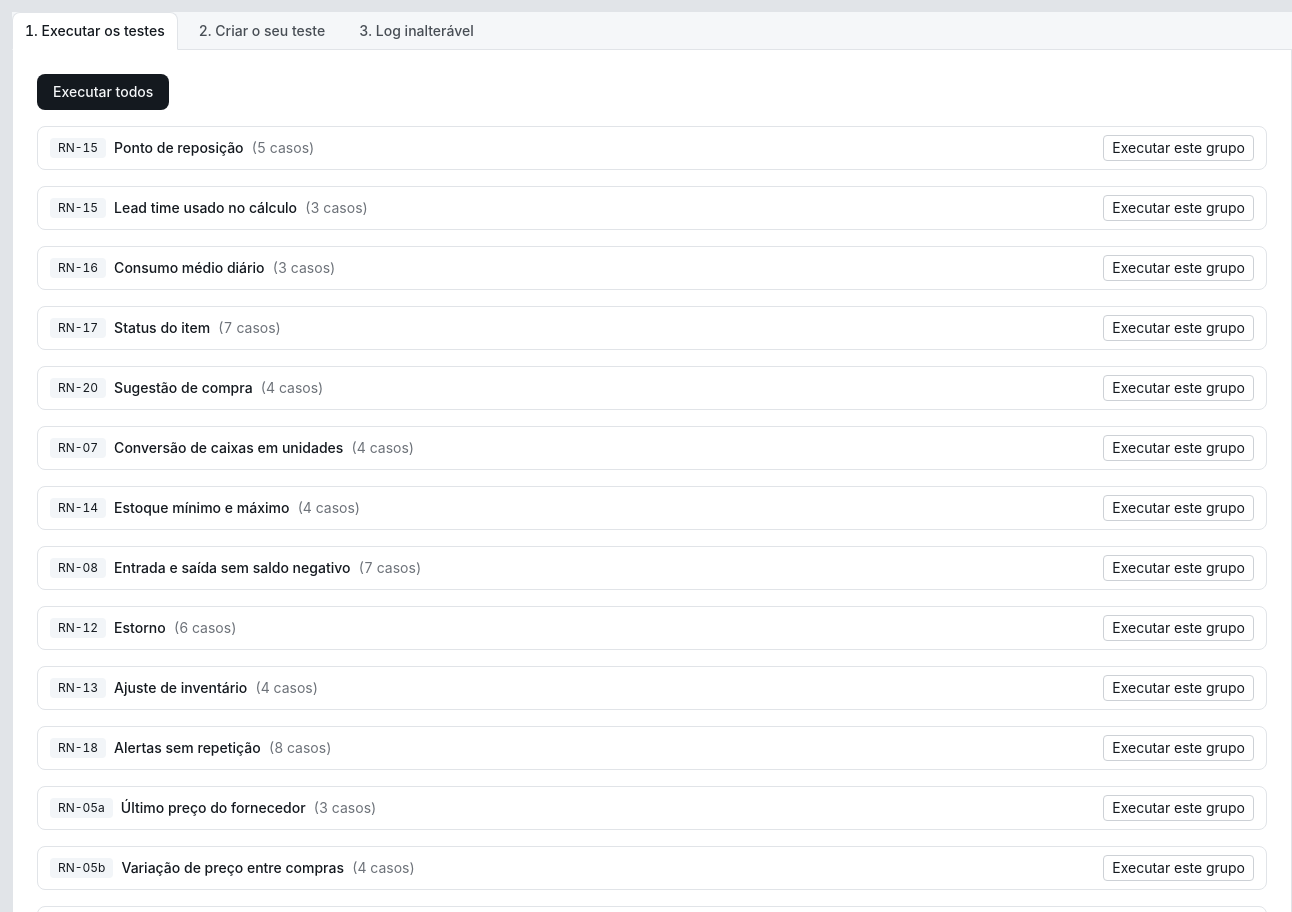
Test: RNF-13 · Laboratório de testes (interface) › aba 2: o avaliador cria um teste de RN-15 que passa
Click the tab "2. Criar o seu teste".
click(262, 31)  # box x1=186 y1=12 x2=338 y2=50
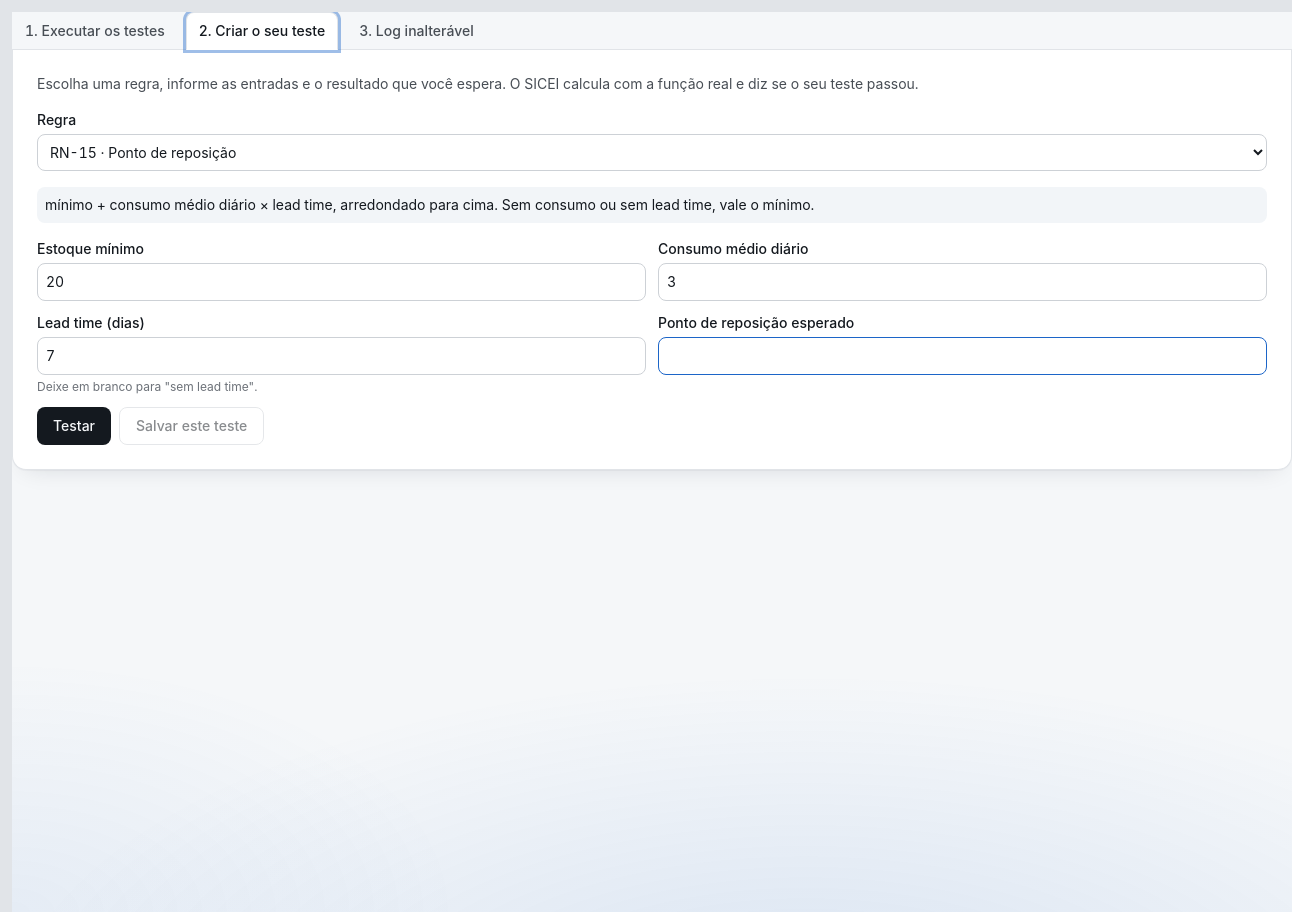
Type "41" into the field labelled "Ponto de reposição esperado".
click(962, 356); type("41")  # box x1=658 y1=337 x2=1267 y2=375
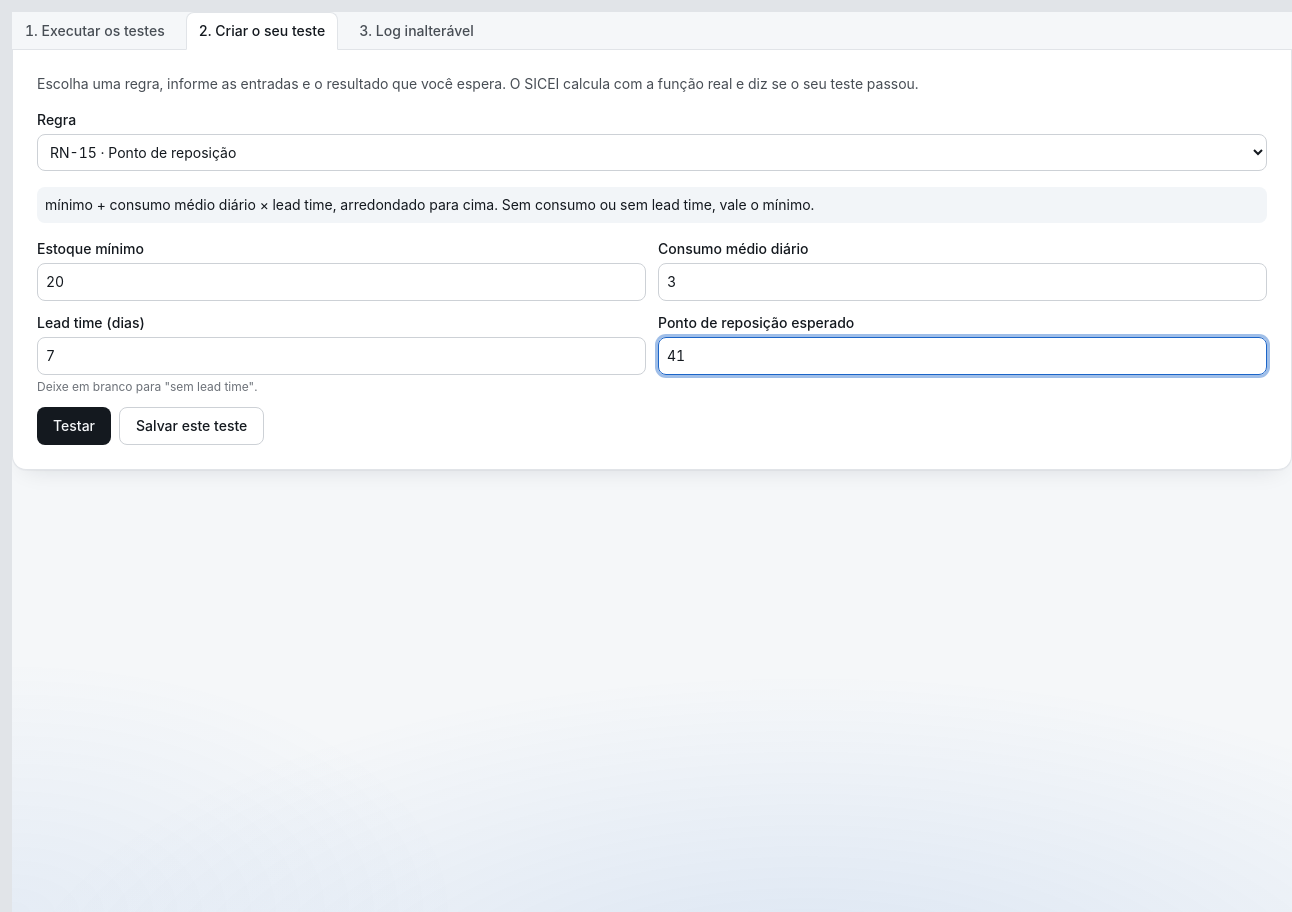
Click the button "Testar".
click(74, 426)  # box x1=37 y1=407 x2=111 y2=445
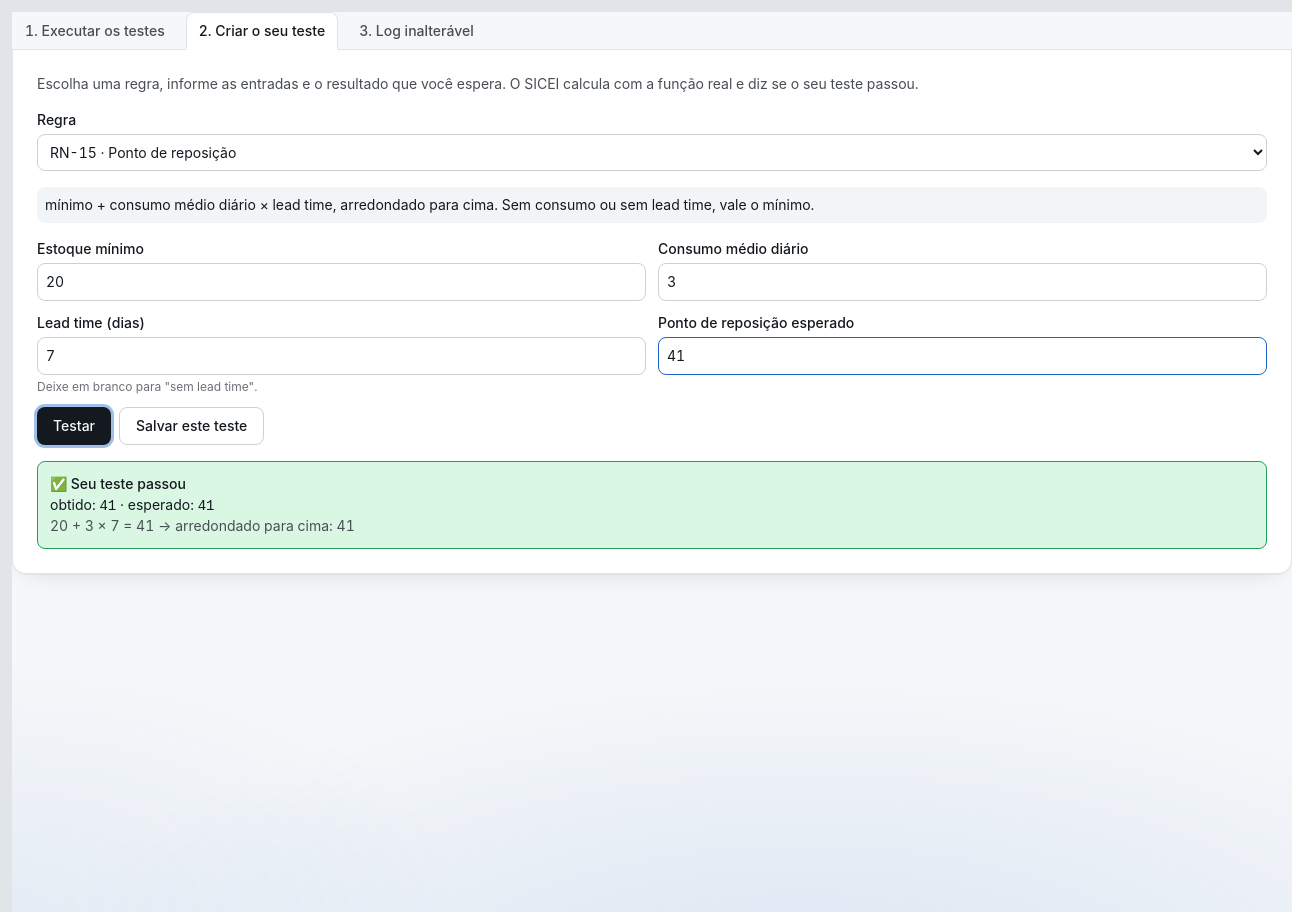
Now the text "✅ Seu teste passou" is shown, box x1=50 y1=475 x2=186 y2=492
Now the text "20 + 3 × 7 = 41 → arredondado para cima: 41" is shown, box x1=50 y1=517 x2=355 y2=534
